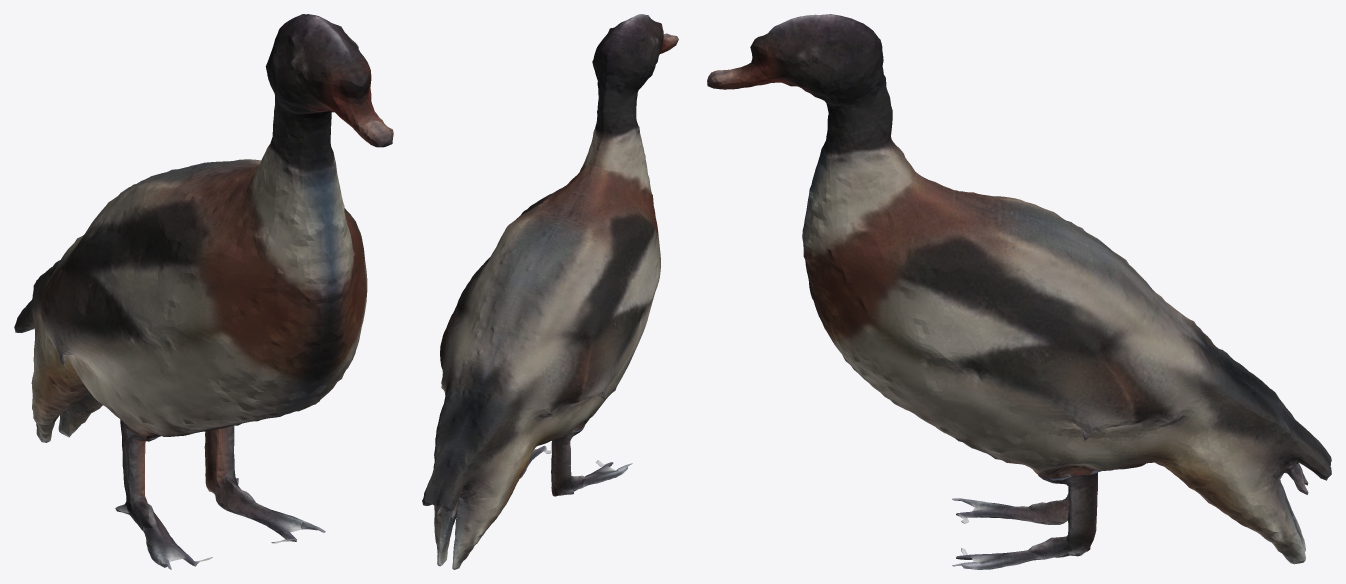
3 views of the same model, side by side, from view 1: azimuth 30°, elevation 25°; view 2: azimuth 150°, elevation 25°; view 3: azimuth 270°, elevation 25° (orthographic). The views are drawn at different scales.
Visible parts, largest first — view 1: Mesh_0.001; view 2: Mesh_0.001; view 3: Mesh_0.001.
Boxes of the visible parts, x1,y1,x2,y2 form: Mesh_0.001: (14, 14, 393, 569); Mesh_0.001: (422, 14, 678, 569); Mesh_0.001: (707, 14, 1331, 569).
Size of the model in its own units: 0.2494 by 0.6337 by 0.6589.
1 material, 1 textured.
